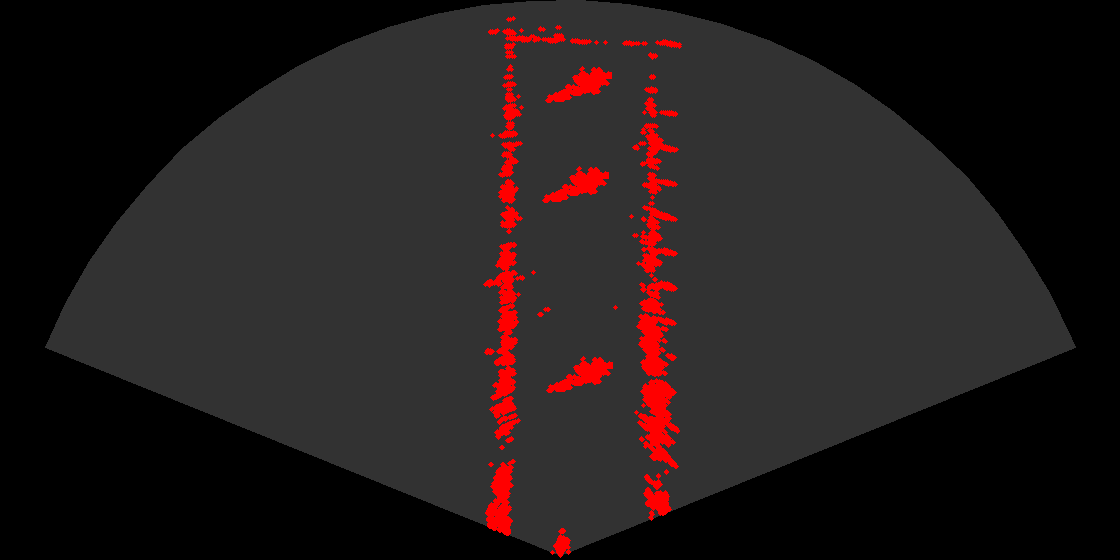frogman: (545, 350, 613, 397), (544, 60, 612, 107), (541, 160, 609, 207)
